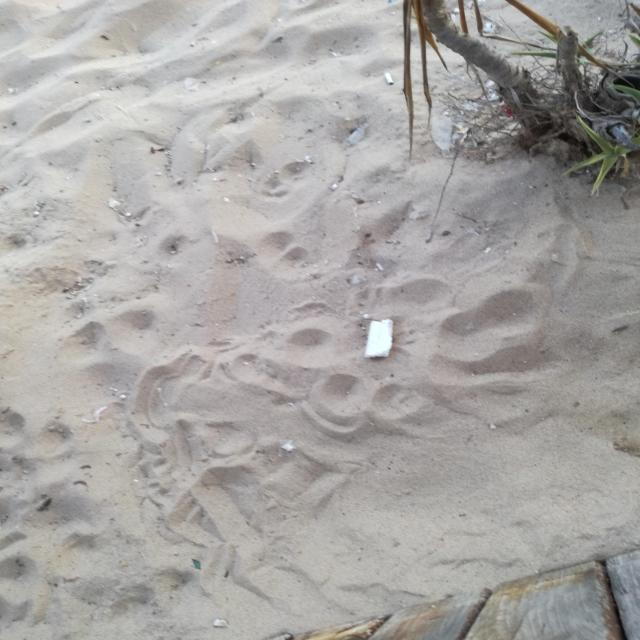litter: (364, 319, 393, 357), (385, 73, 394, 85)
